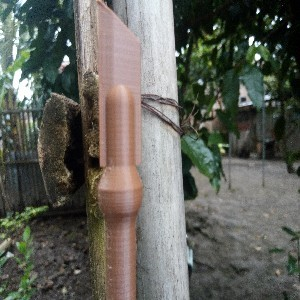cutter: (97, 1, 143, 300)
